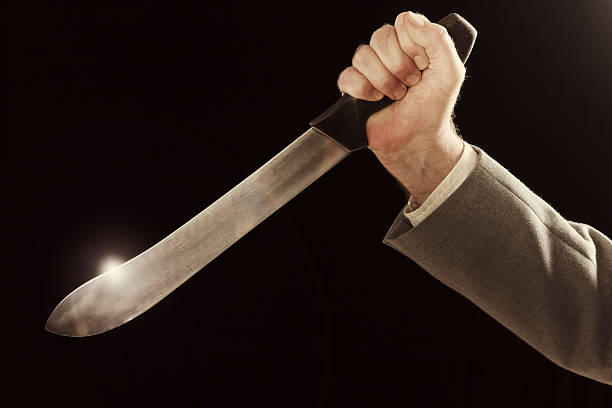knife: (42, 9, 480, 340)
